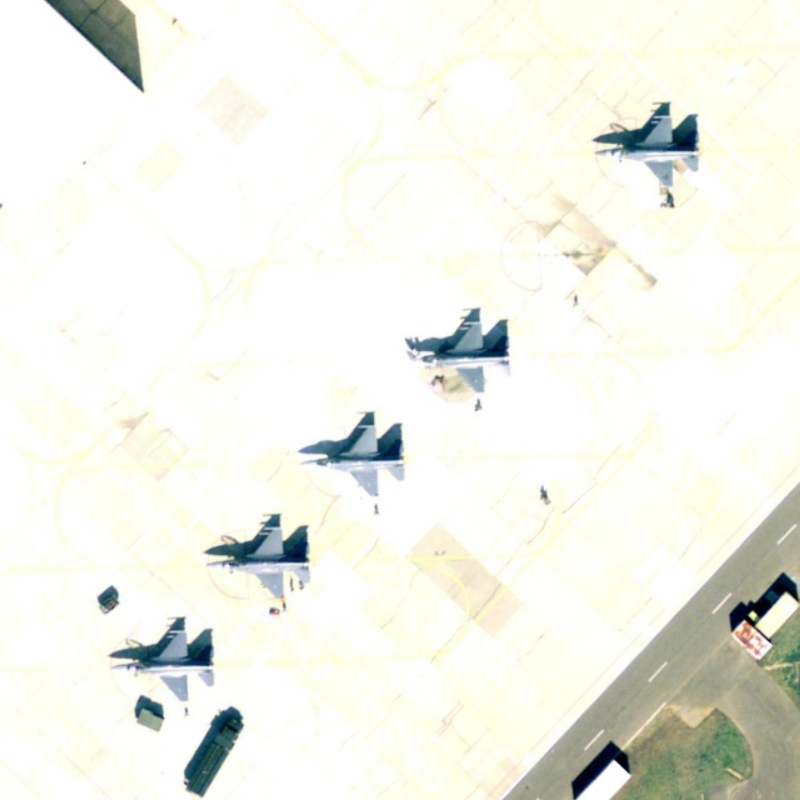A5: (586, 102, 704, 195), (200, 516, 314, 601), (295, 415, 408, 500), (415, 307, 515, 400), (104, 625, 221, 704)
